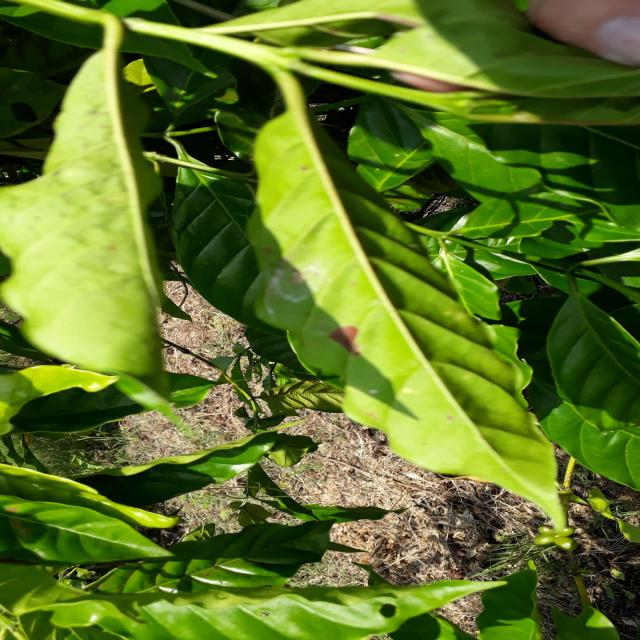Plaga-AranaRoja: (249, 81, 571, 549)
